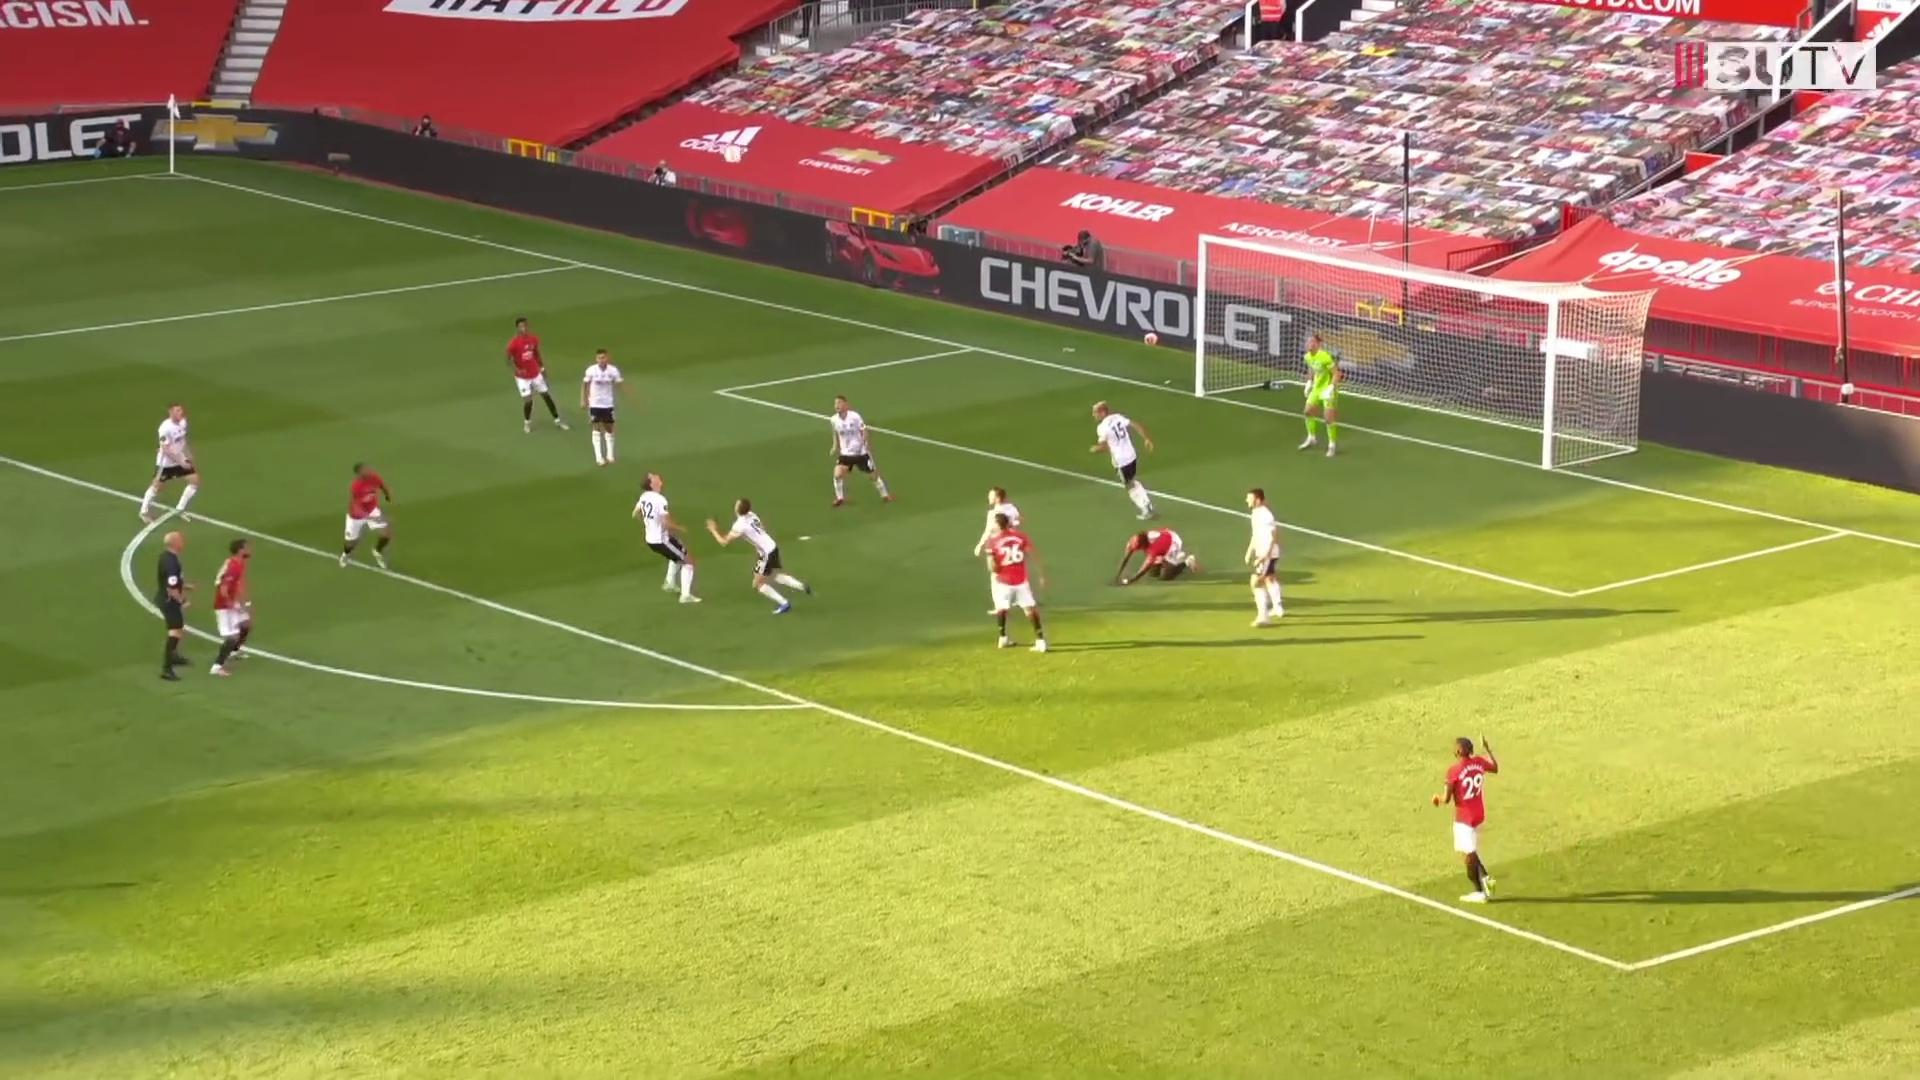ball: (1145, 330, 1160, 349)
goalkeeper: (1291, 332, 1349, 459)
player: (976, 481, 1058, 658), (703, 497, 816, 621), (1430, 733, 1503, 909), (628, 471, 712, 605), (1089, 402, 1165, 529), (136, 396, 205, 528), (506, 313, 574, 436), (824, 393, 895, 510), (206, 538, 262, 683), (1240, 488, 1292, 630), (334, 460, 396, 578), (1112, 524, 1207, 594), (581, 344, 634, 469)
referee: (151, 530, 197, 683)
